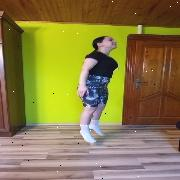high_jumps: (75, 34, 124, 156)
